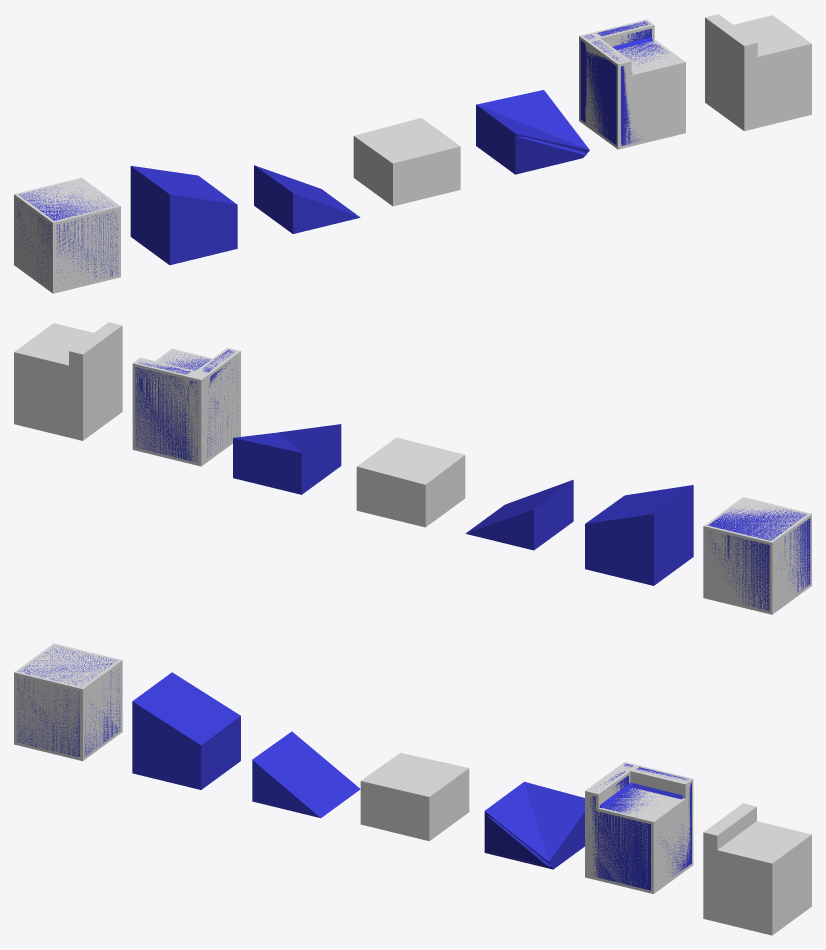
Rendered from myblocks2.glb.
3 renders of one model, top to bottom at view 1: azimuth 30°, elevation 25°; view 2: azimuth 150°, elevation 25°; view 3: azimuth 330°, elevation 25°, orthographic.
Visible parts, largest first — view 1: BlockWall-Col, Block-Col, BlockWallCorner-Col, Ramptop-Col, HalfBlock-Col, EdgeBlock-Col, BlockWallCorner, Ramptop, Block, RampBottom-Col, RampBottom, EdgeBlock; view 2: BlockWallCorner-Col, BlockWall-Col, Block-Col, HalfBlock-Col, Ramptop-Col, Block, BlockWallCorner, EdgeBlock-Col, Ramptop, RampBottom-Col, EdgeBlock, RampBottom; view 3: BlockWall-Col, Block-Col, BlockWallCorner-Col, Ramptop-Col, HalfBlock-Col, BlockWallCorner, RampBottom-Col, EdgeBlock-Col, Block, Ramptop, EdgeBlock.
Part boxes in pixels (bbox=[...]): BlockWall-Col: bbox=[705, 14, 811, 131]; Block-Col: bbox=[14, 177, 120, 293]; BlockWallCorner-Col: bbox=[579, 19, 685, 149]; Ramptop-Col: bbox=[130, 166, 237, 265]; HalfBlock-Col: bbox=[353, 118, 460, 206]; EdgeBlock-Col: bbox=[476, 90, 589, 174]; BlockWallCorner: bbox=[580, 21, 668, 145]; Ramptop: bbox=[132, 170, 234, 261]; Block: bbox=[16, 187, 118, 284]; RampBottom-Col: bbox=[254, 165, 360, 233]; RampBottom: bbox=[255, 169, 349, 229]; EdgeBlock: bbox=[517, 136, 586, 170]; BlockWallCorner-Col: bbox=[132, 347, 240, 466]; BlockWall-Col: bbox=[14, 322, 122, 440]; Block-Col: bbox=[703, 497, 811, 614]; HalfBlock-Col: bbox=[356, 437, 465, 527]; Ramptop-Col: bbox=[585, 485, 693, 585]; Block: bbox=[707, 507, 810, 610]; BlockWallCorner: bbox=[135, 349, 238, 461]; EdgeBlock-Col: bbox=[233, 424, 341, 494]; Ramptop: bbox=[587, 517, 650, 582]; RampBottom-Col: bbox=[465, 479, 573, 550]; EdgeBlock: bbox=[235, 428, 339, 489]; RampBottom: bbox=[489, 484, 572, 546]; BlockWall-Col: bbox=[703, 803, 811, 935]; Block-Col: bbox=[14, 643, 122, 761]; BlockWallCorner-Col: bbox=[585, 762, 693, 893]; Ramptop-Col: bbox=[132, 672, 240, 789]; HalfBlock-Col: bbox=[360, 753, 469, 841]; BlockWallCorner: bbox=[589, 764, 691, 890]; RampBottom-Col: bbox=[252, 731, 360, 817]; EdgeBlock-Col: bbox=[484, 781, 584, 869]; Block: bbox=[17, 646, 120, 756]; Ramptop: bbox=[137, 716, 239, 785]; EdgeBlock: bbox=[487, 815, 570, 867].
Size of the model in its own units: 22.21 by 2.62 by 2.35.
